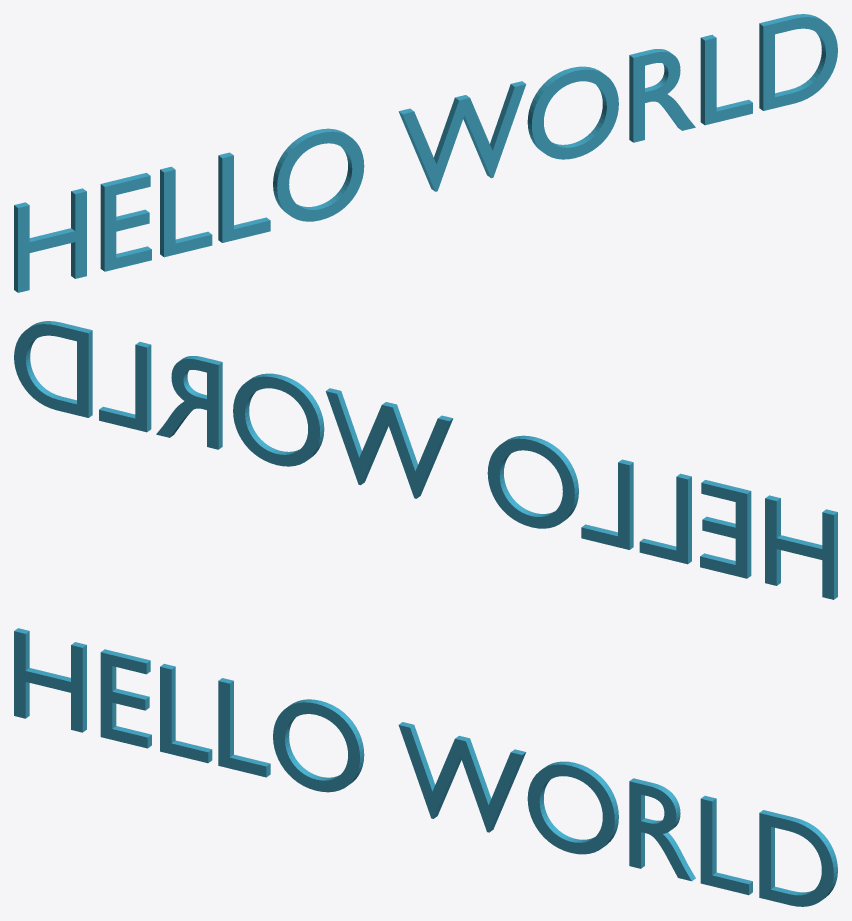
The model's file is helloworld.fbx.
3 views of the same model, one above another, from view 1: azimuth 30°, elevation 25°; view 2: azimuth 150°, elevation 25°; view 3: azimuth 330°, elevation 25° (orthographic).
Parts seen in each view (by area): view 1: Text; view 2: Text; view 3: Text.
Boxes of the visible parts, left/top/right/bottom form: Text: left=14, top=14, right=837, bottom=292; Text: left=14, top=321, right=837, bottom=599; Text: left=14, top=628, right=837, bottom=906.
Size of the model in its own units: 690 by 70 by 6.06.
